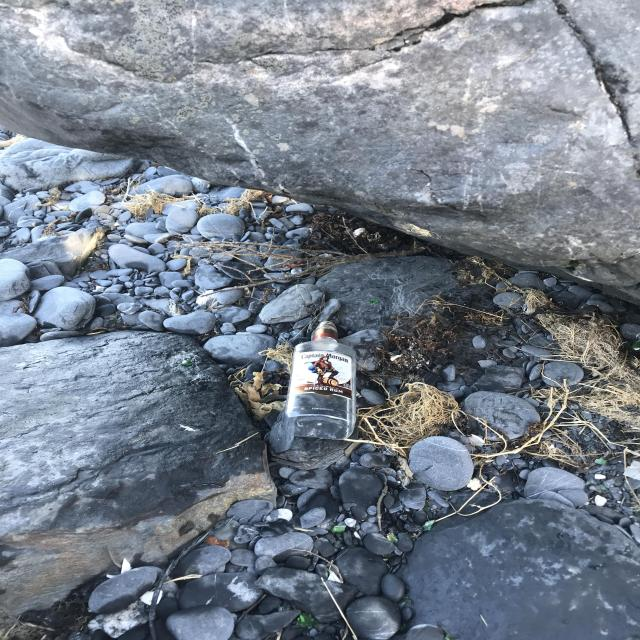litter: (149, 514, 235, 640), (283, 320, 356, 440), (297, 613, 319, 628), (386, 531, 398, 543), (422, 520, 435, 531), (329, 525, 347, 532), (180, 359, 193, 365), (369, 299, 378, 304)
